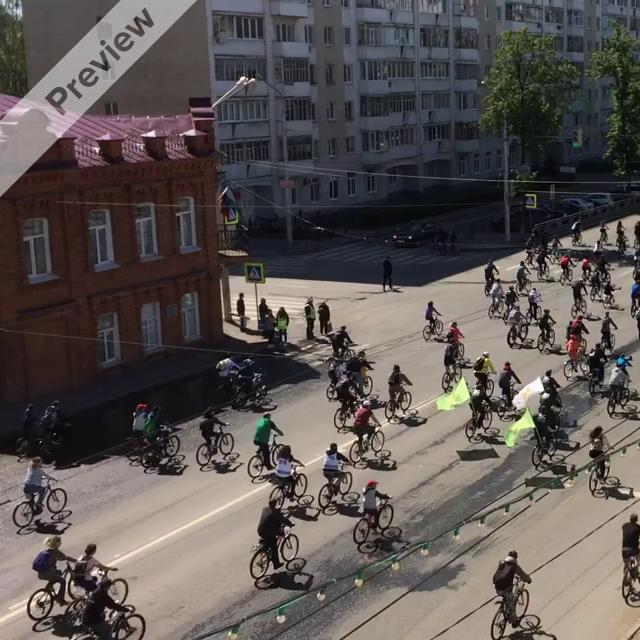bicycle: (64, 568, 128, 623), (26, 559, 82, 620), (491, 577, 540, 639), (249, 525, 302, 580), (12, 476, 67, 527), (68, 604, 145, 639), (128, 426, 180, 466), (353, 494, 394, 543), (318, 468, 360, 513), (268, 464, 310, 507), (247, 433, 284, 478), (196, 423, 234, 465), (349, 423, 385, 467), (588, 449, 621, 496), (230, 371, 269, 410), (606, 378, 637, 417), (465, 400, 493, 442), (531, 426, 559, 467), (563, 337, 587, 378), (384, 385, 412, 420), (333, 395, 361, 429), (497, 382, 522, 420), (588, 361, 608, 397), (441, 358, 462, 392), (506, 318, 529, 348), (350, 370, 373, 396), (473, 371, 495, 397), (422, 315, 443, 341), (537, 325, 555, 353), (331, 342, 355, 361), (488, 294, 506, 319), (447, 338, 464, 360), (571, 296, 587, 318), (525, 302, 541, 322), (515, 276, 531, 296), (600, 330, 615, 351), (484, 277, 499, 296)
